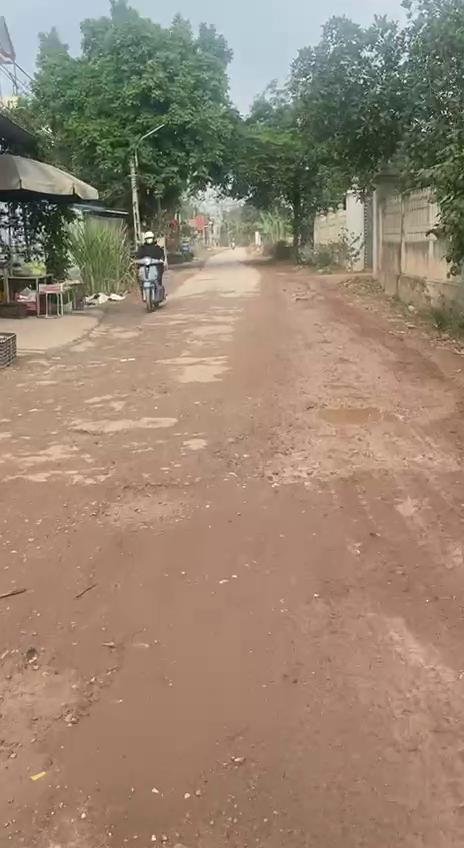pothole: (100, 480, 200, 526), (262, 446, 318, 490), (310, 404, 394, 432)
